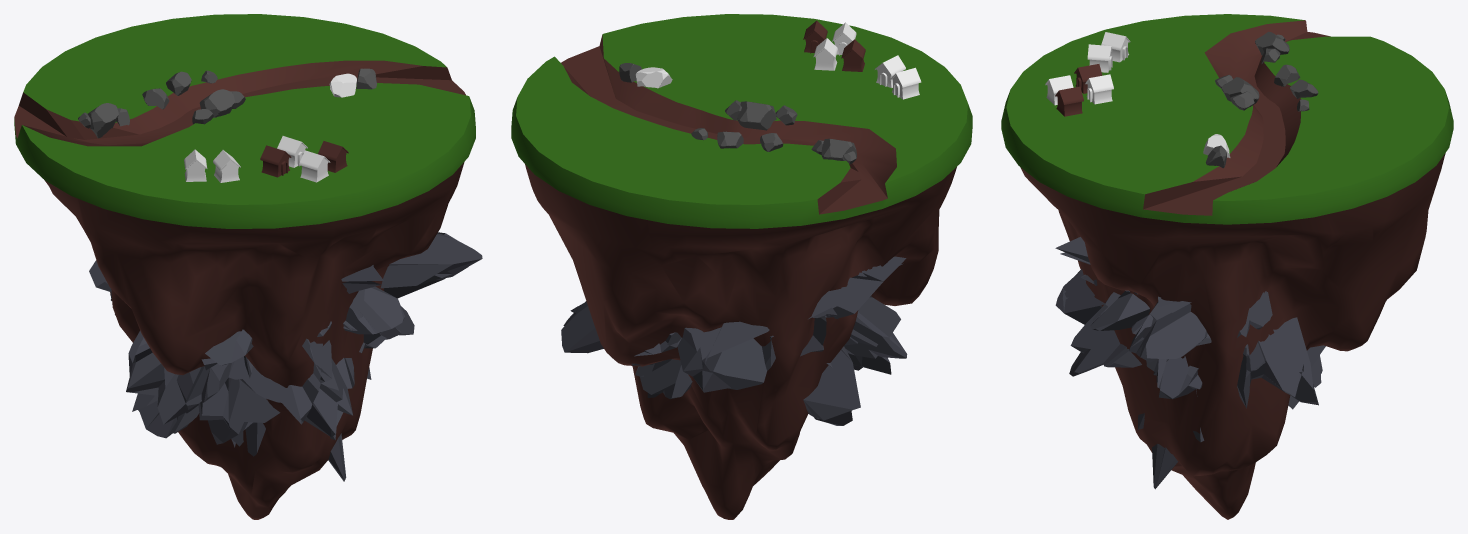
File: my schema.fbx
3 renders of one model, left to right at view 1: azimuth 30°, elevation 25°; view 2: azimuth 150°, elevation 25°; view 3: azimuth 270°, elevation 25°, orthographic. The views are drawn at different scales.
Visible parts, largest first — view 1: Circle, Icosphere.001, Icosphere.002, Circle.001, Icosphere.006, Cube.001, Cube.007, Icosphere, Cube.006, Cube.004, Cube.005, Icosphere.009 (+1 smaller); view 2: Circle, Icosphere.001, Icosphere.002, Circle.001, Icosphere, Cube.005, Icosphere.009, Cube.001, Cube.003, Icosphere.006, Cube.006; view 3: Circle, Icosphere.001, Icosphere.002, Circle.001, Cube.003, Cube.004, Cube.006, Cube.005, Icosphere, Icosphere.006.
Boxes of the visible parts, x1,y1,x2,y2 form: Circle: (14,14,475,228); Icosphere.001: (44,162,464,519); Icosphere.002: (89,232,482,481); Circle.001: (14,60,465,146); Icosphere.006: (87,103,118,138); Cube.001: (260,145,291,177); Cube.007: (299,150,330,182); Icosphere: (199,89,235,117); Cube.006: (213,150,240,182); Cube.004: (318,141,348,172); Cube.005: (184,149,207,181); Icosphere.009: (329,73,356,97); Circle: (511,14,972,228); Icosphere.001: (525,164,956,519); Icosphere.002: (561,256,907,425); Circle.001: (561,35,896,214); Icosphere: (737,101,776,130); Cube.005: (890,67,921,99); Icosphere.009: (635,67,672,88); Cube.001: (841,39,865,71); Cube.003: (813,38,837,70); Icosphere.006: (821,138,856,160); Cube.006: (875,55,905,87); Circle: (1001,14,1453,224); Icosphere.001: (1020,153,1445,519); Icosphere.002: (1055,237,1325,489); Circle.001: (1143,20,1330,215); Cube.003: (1085,74,1113,104); Cube.004: (1055,86,1083,116); Cube.006: (1087,44,1112,72); Cube.005: (1101,32,1130,62); Icosphere: (1221,77,1259,104); Icosphere.006: (1255,31,1289,55).
Size of the model in its own units: 7241 by 7544 by 7241.
